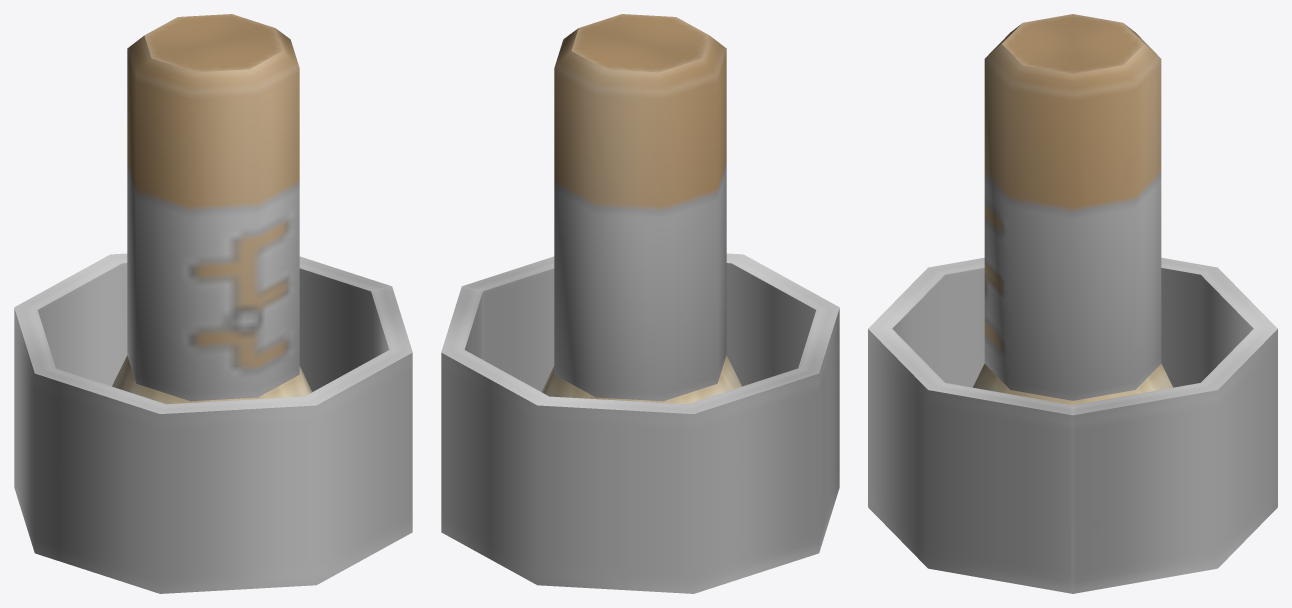
The model's file is jsf_OilingBrush_Set_02.fbx.
3 renders of one model, left to right at view 1: azimuth 30°, elevation 25°; view 2: azimuth 150°, elevation 25°; view 3: azimuth 270°, elevation 25°, orthographic.
Parts seen in each view (by area): view 1: Vessel, OilingBrush; view 2: Vessel, OilingBrush; view 3: Vessel, OilingBrush.
Part boxes in pixels (x1=…): Vessel: x1=14, y1=253, x2=412, y2=593; OilingBrush: x1=112, y1=14, x2=311, y2=404; Vessel: x1=441, y1=253, x2=839, y2=593; OilingBrush: x1=542, y1=14, x2=741, y2=404; Vessel: x1=868, y1=257, x2=1277, y2=593; OilingBrush: x1=973, y1=14, x2=1172, y2=404.
Bounding box in the file's own units: 8.11 × 10.12 × 8.11.
